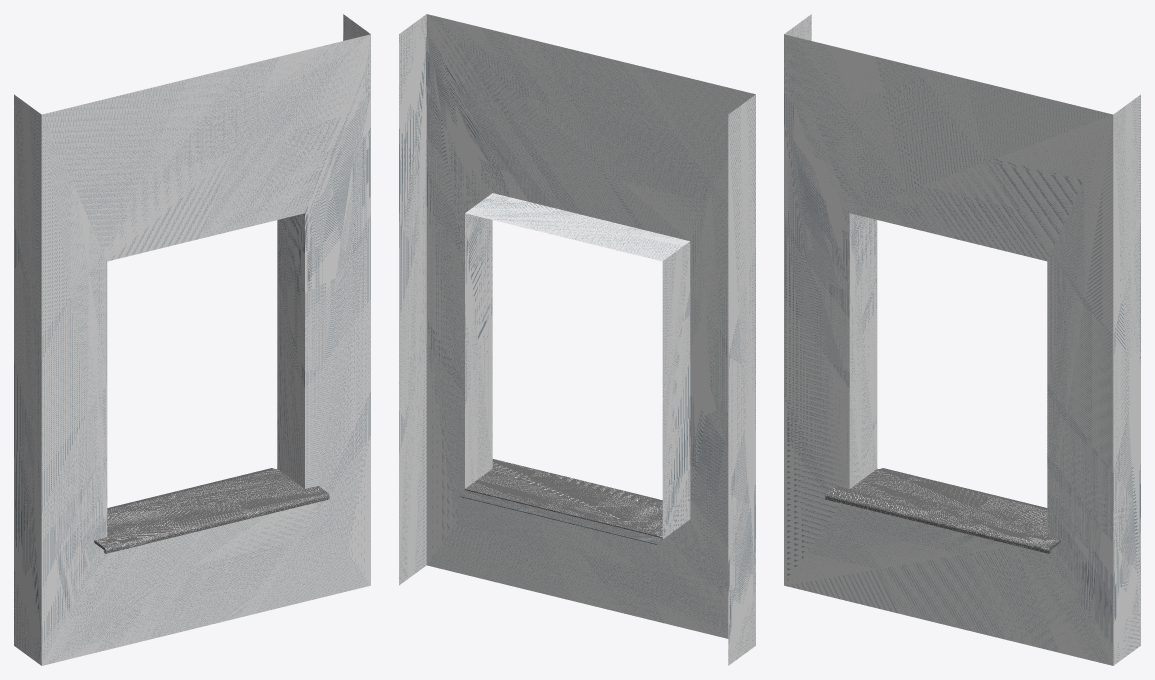
Rendered from WindowBlock_os_[250x400]_150x200x[080].dae.
3 views of the same model, side by side, from view 1: azimuth 30°, elevation 25°; view 2: azimuth 150°, elevation 25°; view 3: azimuth 330°, elevation 25° (orthographic).
Visible parts, largest first — view 1: group_2 (×2), group_1; view 2: group_2 (×2), group_1 (×2); view 3: group_2 (×2), group_1.
Boxes of the visible parts, box(x1,y1,x2,y2) form: group_2 (×2): box(14, 14, 370, 665); group_1: box(94, 468, 329, 553); group_2 (×2): box(399, 14, 755, 665); group_1 (×2): box(459, 459, 662, 544); group_2 (×2): box(784, 14, 1140, 665); group_1: box(825, 468, 1059, 553).
Size of the model in its own units: 98.43 by 23.03 by 157.
